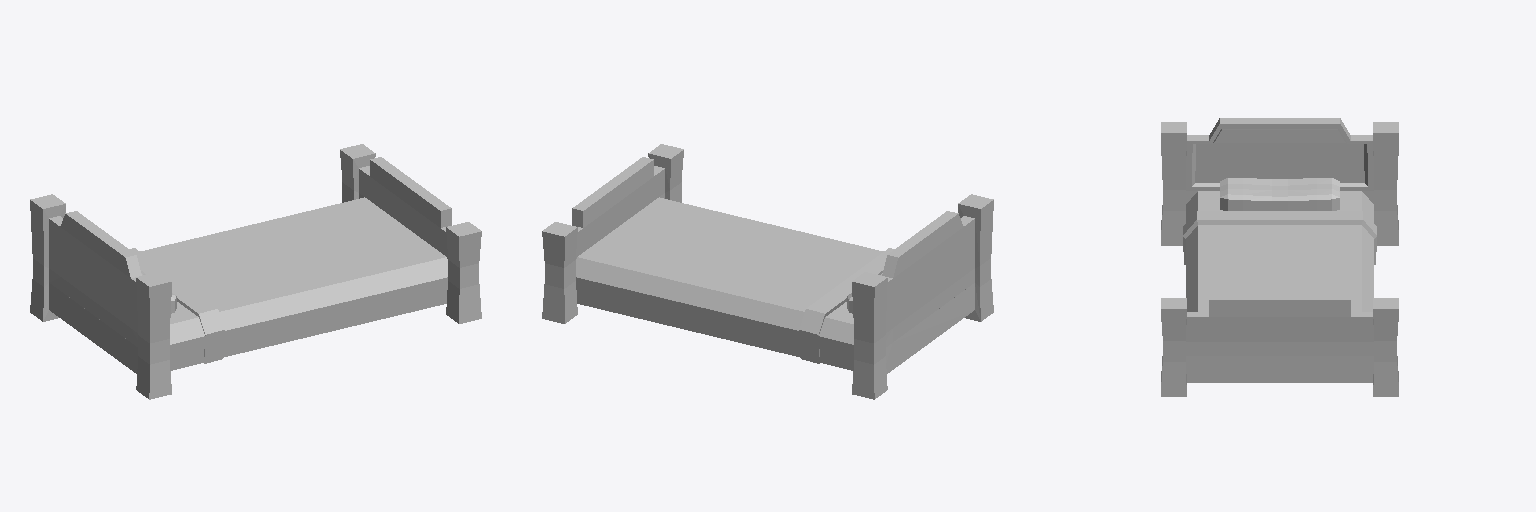
File: Bed.obj
3 views of the same model, side by side, from view 1: azimuth 30°, elevation 25°; view 2: azimuth 150°, elevation 25°; view 3: azimuth 270°, elevation 25° (orthographic).
Visible parts, largest first — view 1: Bed; view 2: Bed; view 3: Bed.
Part boxes in pixels (x1,y1,x2,y2): Bed: (30,144,481,399); Bed: (542,144,993,399); Bed: (1161,118,1398,396).
Size of the model in its own units: 1.43 by 0.4898 by 0.8898.